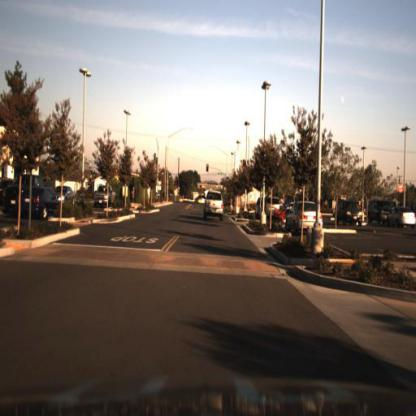car: (283, 194, 328, 240), (15, 184, 60, 221), (199, 189, 230, 229), (335, 195, 366, 227), (387, 202, 416, 236), (1, 171, 22, 215), (92, 183, 117, 210), (56, 185, 79, 214), (258, 195, 281, 222), (365, 201, 387, 228)
trafficLight-Red: (205, 163, 211, 175), (173, 177, 179, 187)
